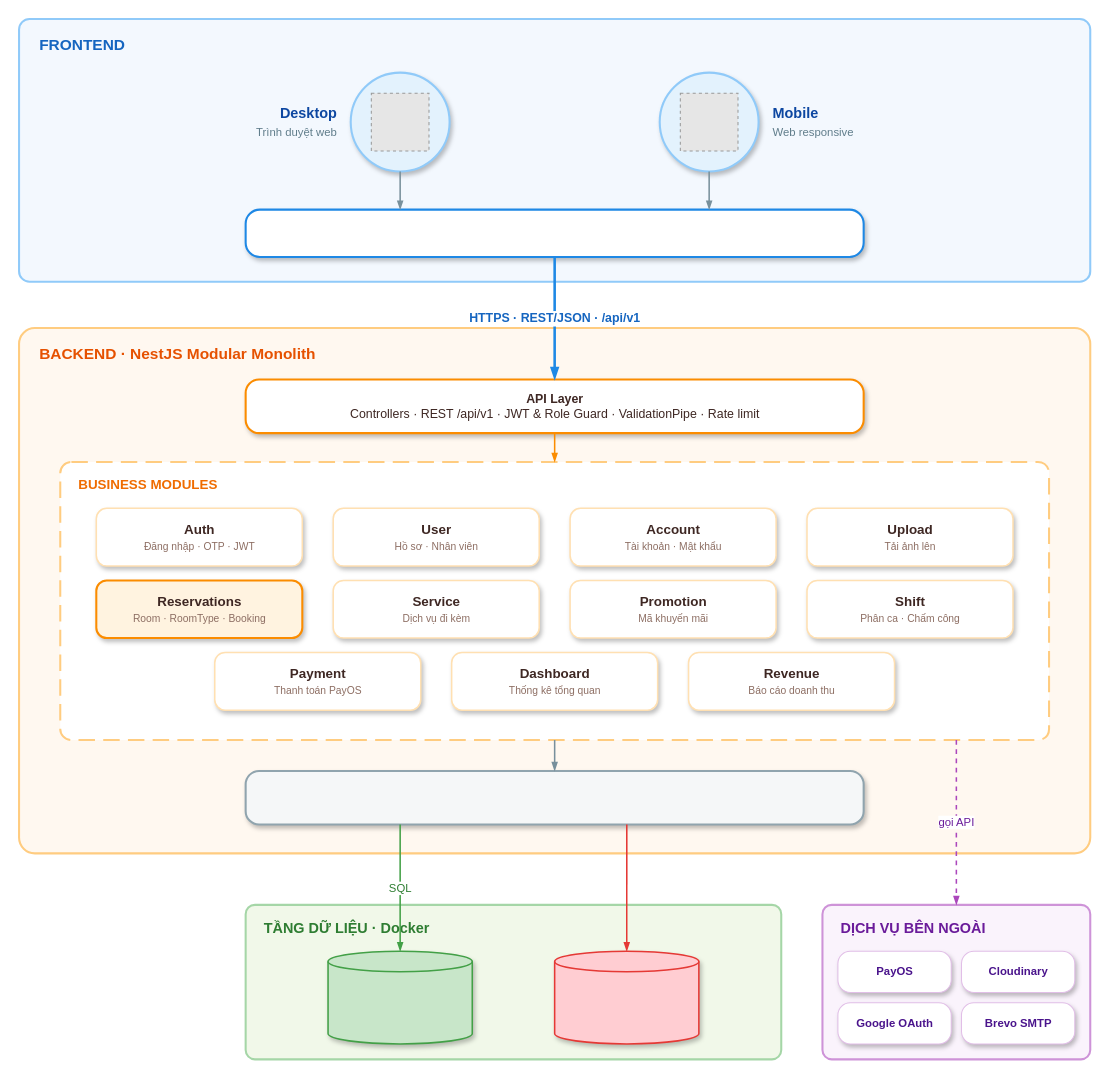
Image size: 1108x1077. Some labels were removed from this diagram. Grey dashed boxes stand in for pictures. Here are the shapes that lost their labels. From the top down, the centre of each, then its label:
the point at 555,234: React - React Native
the point at 555,798: Infrastructure TypeORM · Redis Client · Mail (nodemailer) · Config
the point at 401,998: PostgreSQL 16 Dữ liệu nghiệp vụ
the point at 627,998: Redis 7 OTP · Token · Lock
